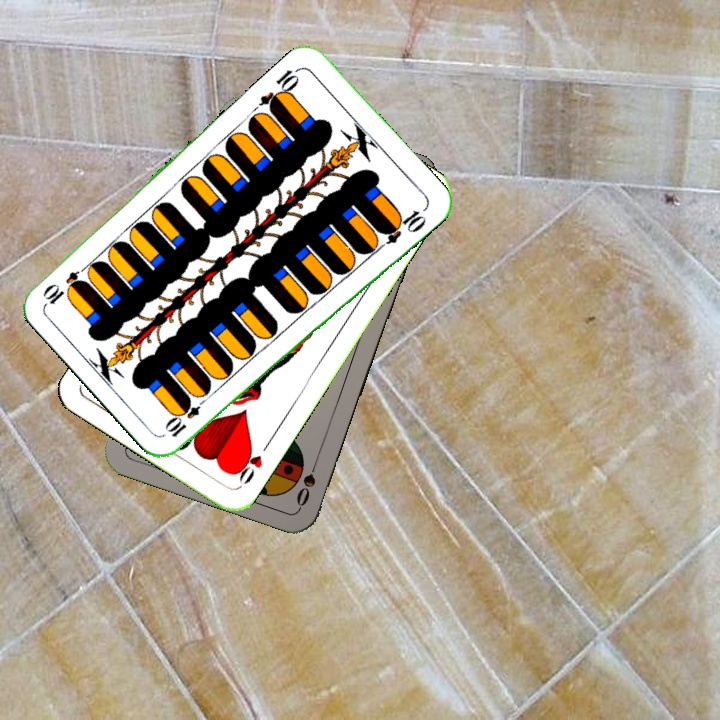E10: (256, 63, 304, 115), (162, 391, 211, 440)
HO: (230, 437, 273, 490)
SO: (292, 452, 322, 509)
